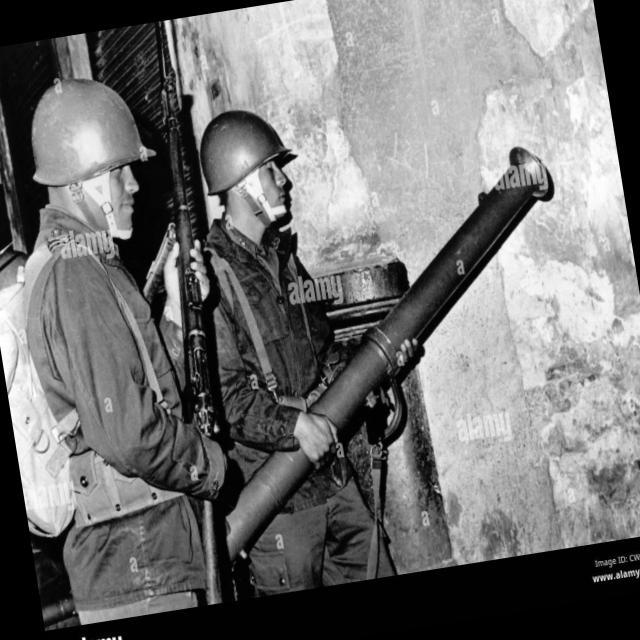rocket: (176, 135, 597, 566)
